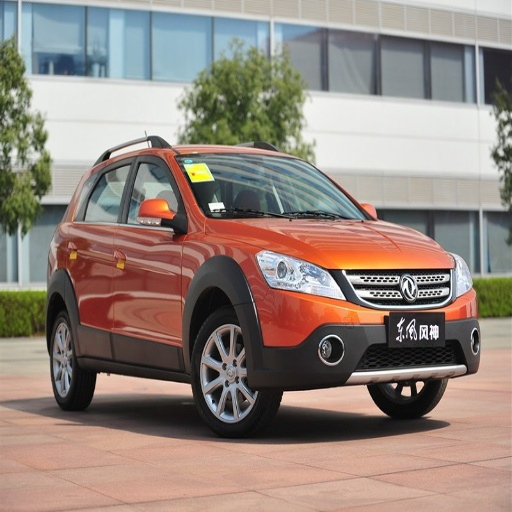front_bumper: (255, 268, 479, 387)
front_right_door: (113, 152, 186, 366)
front_right_light: (256, 250, 347, 299)
